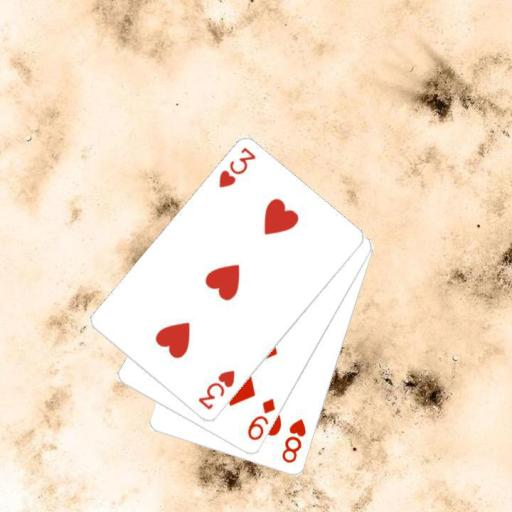3H: (216, 144, 258, 190), (195, 367, 237, 412)
8H: (279, 416, 308, 465)
9D: (244, 396, 277, 443)
